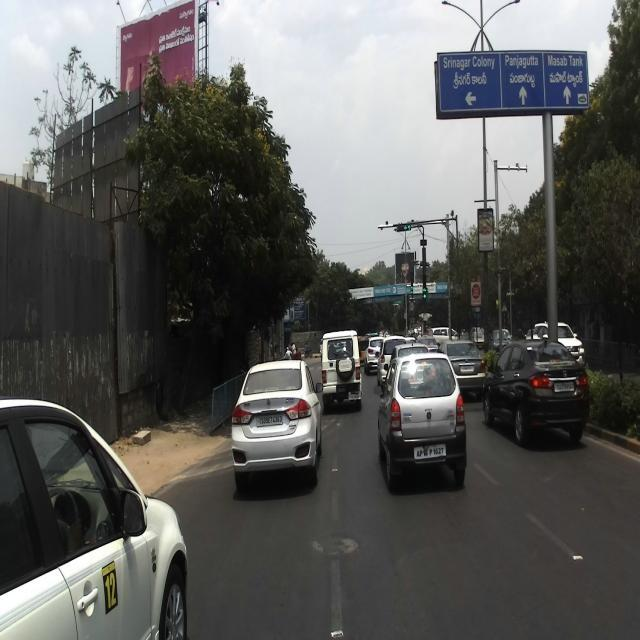pothole: (306, 502, 364, 596)
